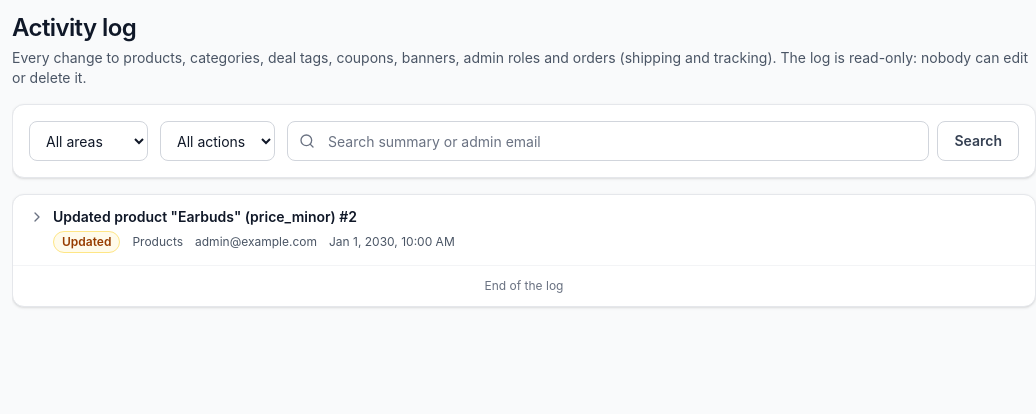
Test case: LogsPage › expands a row to show before and after, and collapses it again
The width and height of the screenshot is (1036, 414).
Expected: the text "$12.00" is not shown
Click the button "Updated product". click: (205, 216)
box: [29,207,1019,253]
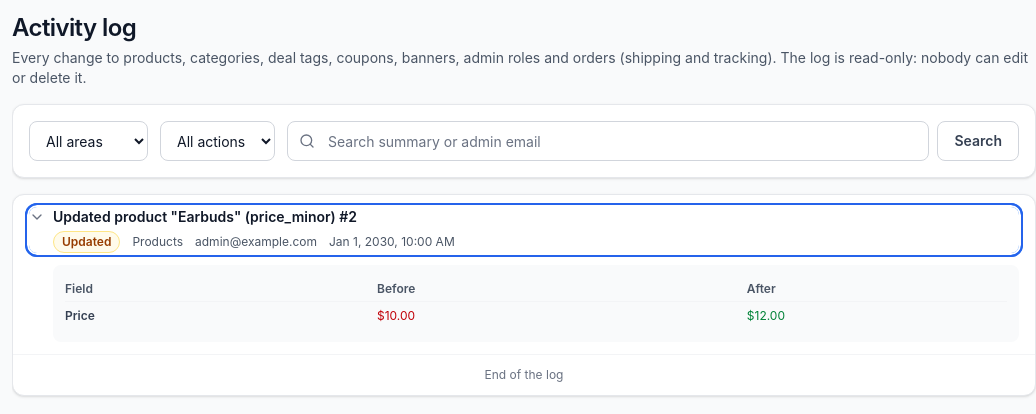
Result: the button "Updated product" is expanded
Result: the column heading "Price" is shown at [65,302,377,330]
Result: the text "$10.00" is shown at [377,302,747,330]
Click the button "Updated product". click: (205, 216)
box: [29,207,1019,253]
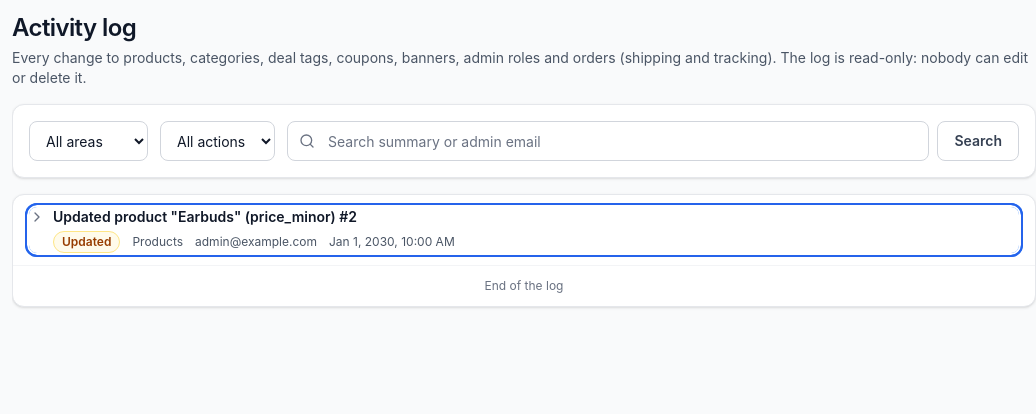
Result: the text "$12.00" is gone
